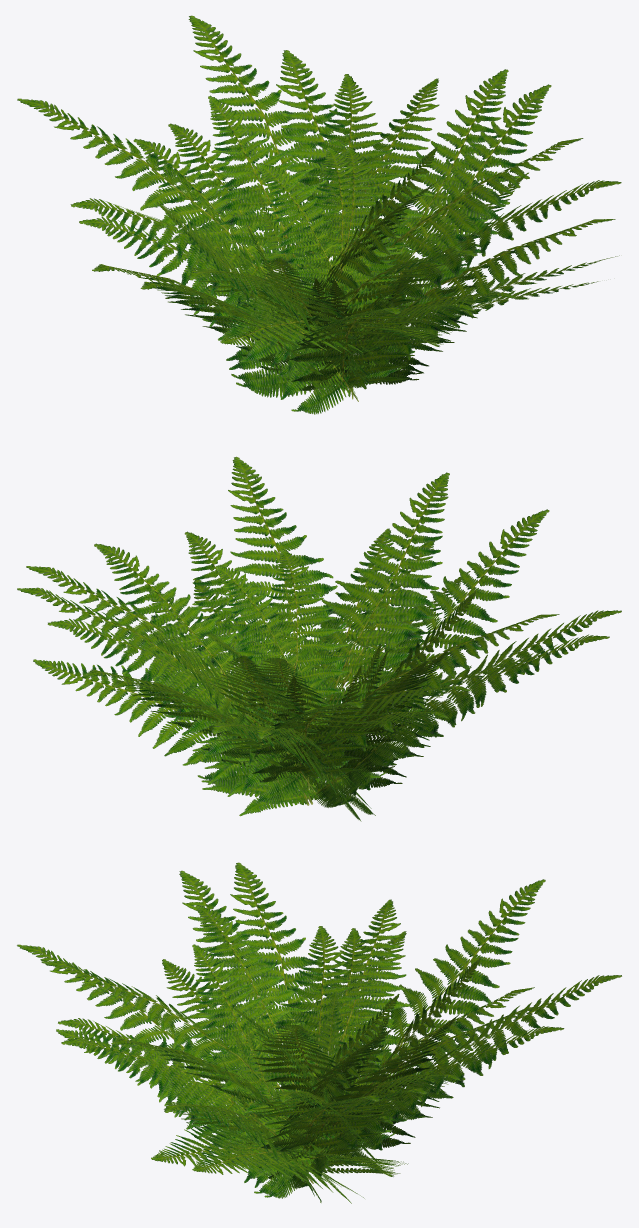
File: Fern1.fbx
3 renders of one model, top to bottom at view 1: azimuth 30°, elevation 25°; view 2: azimuth 150°, elevation 25°; view 3: azimuth 270°, elevation 25°, orthographic. The views are drawn at different scales.
Parts seen in each view (by area): view 1: fern1-00; view 2: fern1-00; view 3: fern1-00.
Boxes of the visible parts, bbox=[...] form: fern1-00: bbox=[17, 15, 621, 414]; fern1-00: bbox=[17, 456, 621, 821]; fern1-00: bbox=[17, 862, 621, 1203].
Bounding box in the file's own units: 69.42 × 29.57 × 74.54.
Materials: 1 (1 with a texture image).
